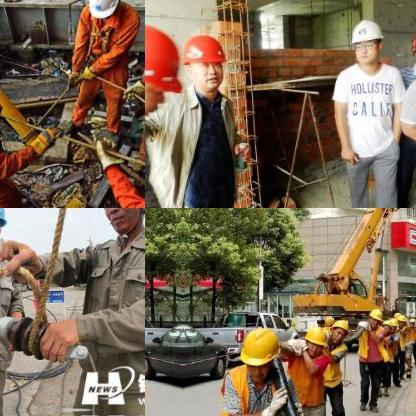Helmet: (145, 21, 183, 123), (183, 30, 227, 96), (235, 326, 280, 378), (348, 19, 384, 67), (90, 208, 144, 233), (82, 0, 121, 20), (302, 324, 324, 356), (328, 316, 348, 344), (367, 306, 383, 328), (378, 316, 390, 334), (394, 312, 404, 328)
